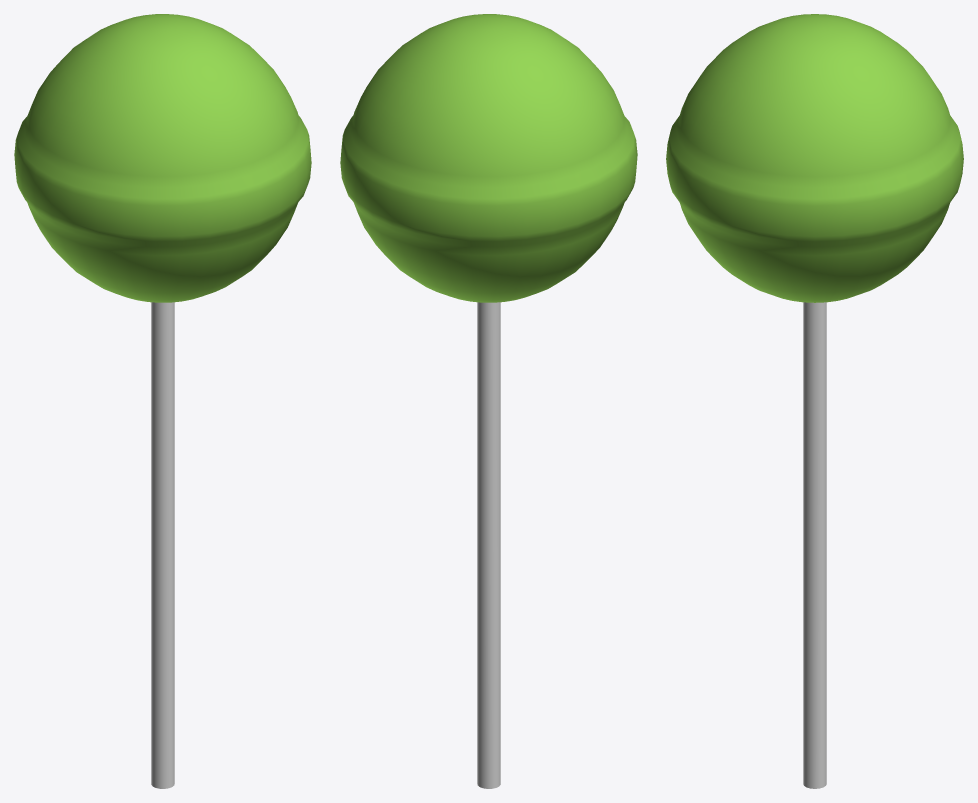
Rendered from LolipopGreen.fbx.
The picture shows the model from 3 angles, left to right: view 1: azimuth 30°, elevation 25°; view 2: azimuth 150°, elevation 25°; view 3: azimuth 270°, elevation 25°; orthographic projection.
Parts seen in each view (by area): view 1: Head, Stick; view 2: Head, Stick; view 3: Head, Stick.
Part boxes in pixels (x1,y1,x2,y2): Head: (14, 14, 311, 302); Stick: (151, 302, 174, 788); Head: (340, 14, 637, 302); Stick: (477, 302, 500, 788); Head: (666, 14, 963, 302); Stick: (803, 302, 826, 788).
Size of the model in its own units: 3.01 by 8.45 by 3.01.
